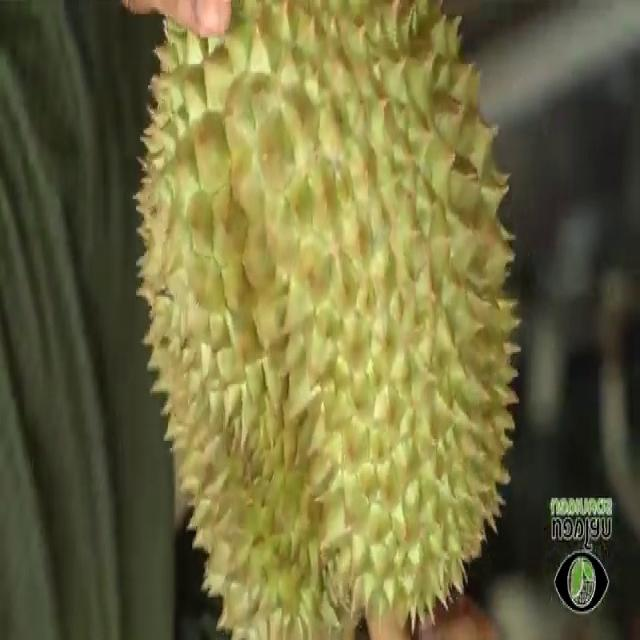durian: (133, 2, 525, 636)
